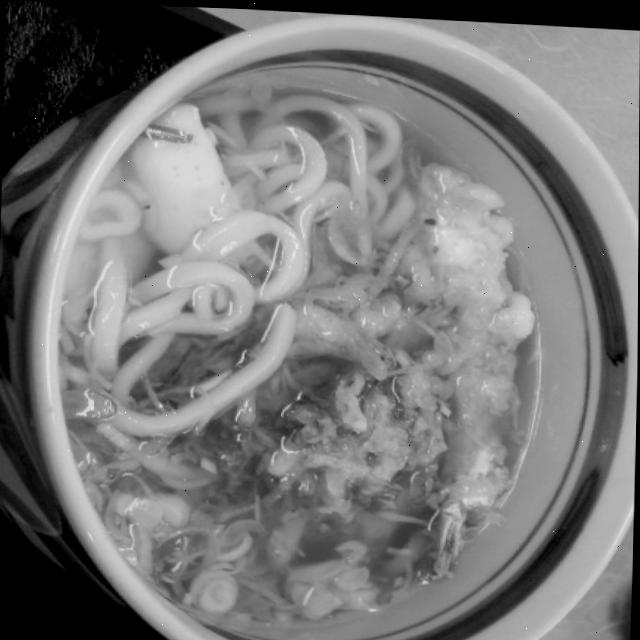面条主食: (38, 62, 565, 640)
